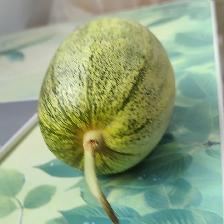gua: (60, 35, 145, 167)
